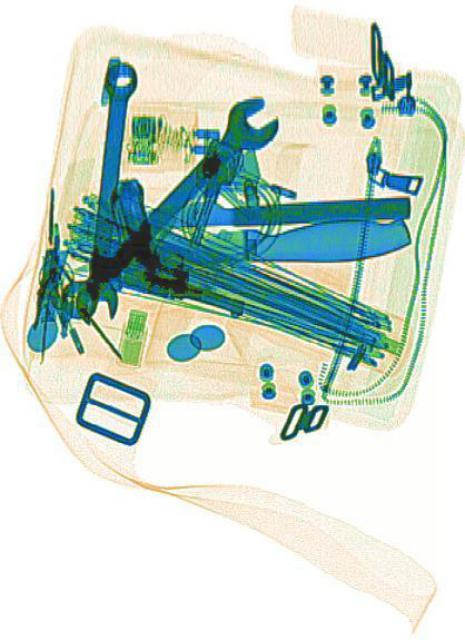Gun: (92, 170, 255, 318)
Knife: (72, 208, 407, 290), (68, 185, 407, 238)
Wrench: (46, 81, 283, 333), (74, 55, 138, 319)
